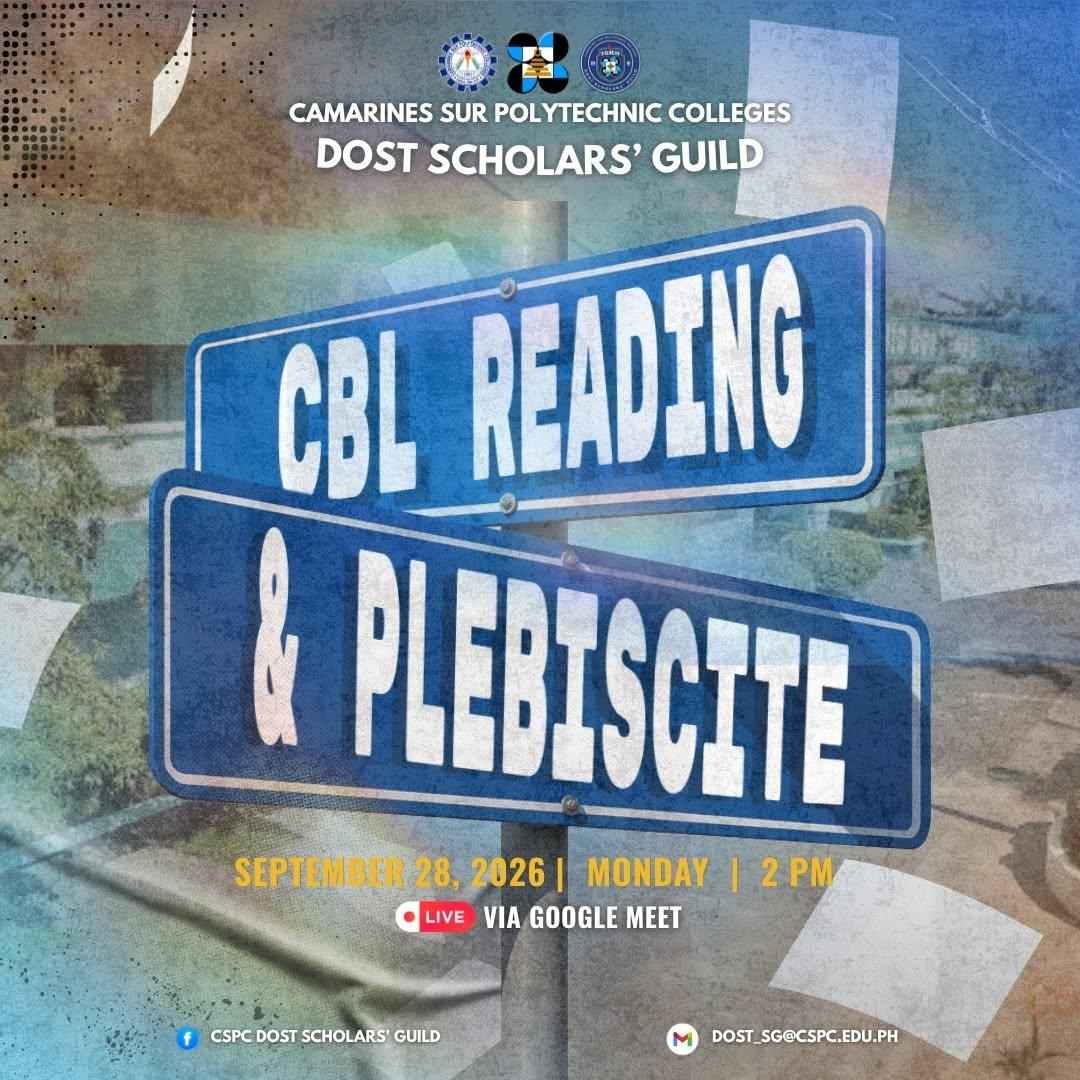embellishment: (769, 859, 1047, 1059), (917, 408, 1077, 606), (394, 901, 475, 932), (665, 1023, 699, 1056), (176, 1025, 199, 1050)
logo: (507, 32, 571, 94), (580, 31, 642, 95), (436, 31, 498, 94)
text: (235, 528, 860, 819), (264, 248, 820, 508), (278, 100, 801, 182), (225, 845, 831, 895), (207, 1018, 447, 1053), (480, 895, 691, 934), (707, 1023, 903, 1053)
underlay: (148, 212, 933, 827)
